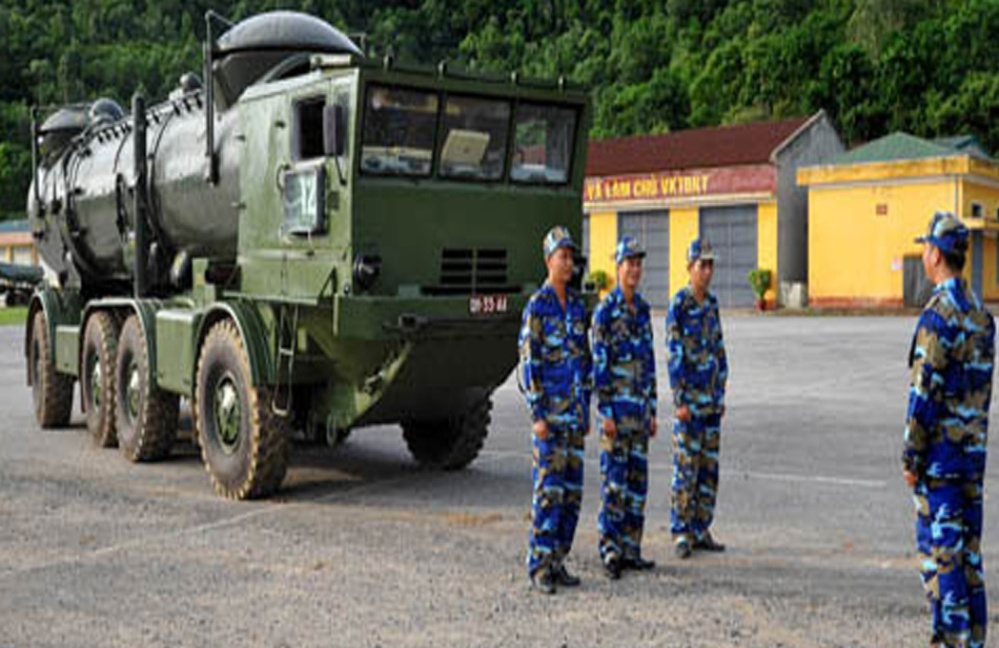plate: (463, 291, 511, 316)
